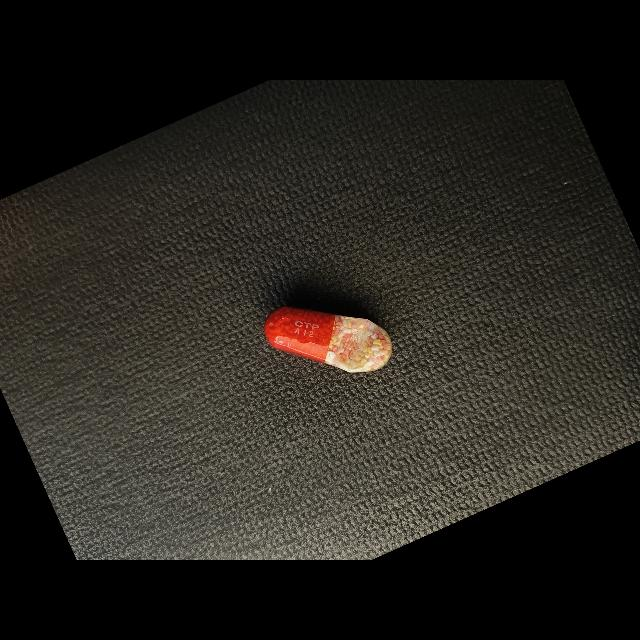Defective Capsule: (264, 307, 392, 373)
